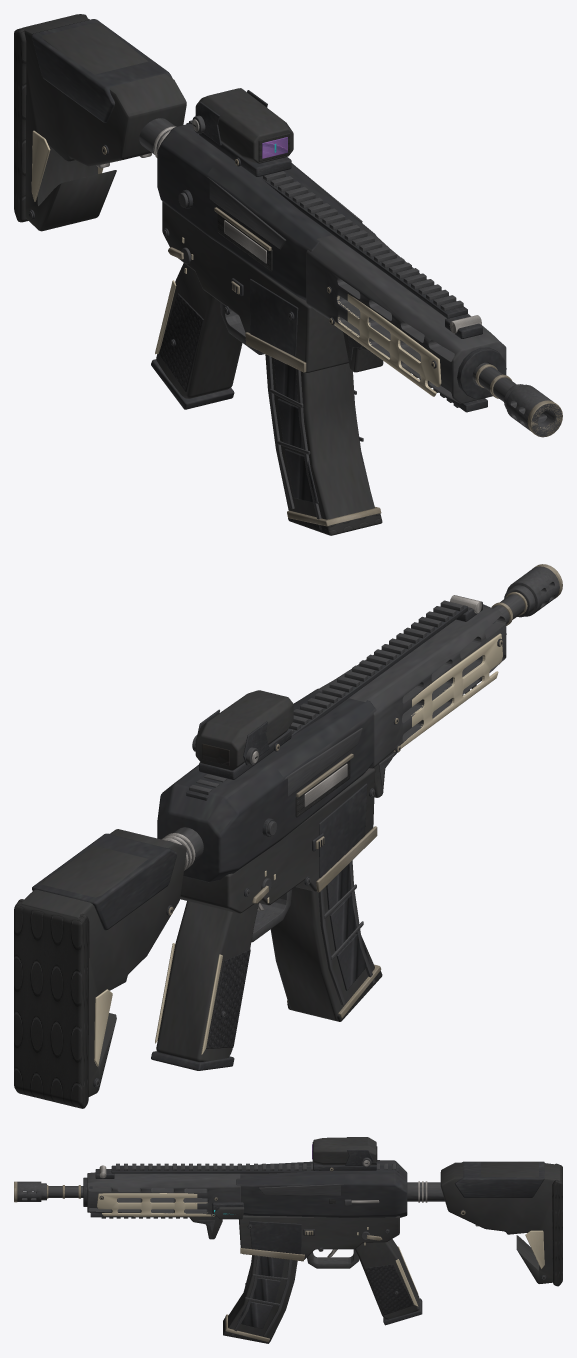
Rendered from SM_TunaWeapon_AR_Premium.fbx.
3 renders of one model, top to bottom at view 1: azimuth 30°, elevation 25°; view 2: azimuth 150°, elevation 25°; view 3: azimuth 270°, elevation 25°, orthographic. The views are drawn at different scales.
Parts seen in each view (by area): view 1: SM_TunaWeapon_AR_Premium; view 2: SM_TunaWeapon_AR_Premium; view 3: SM_TunaWeapon_AR_Premium.
Boxes of the visible parts, <box> form: SM_TunaWeapon_AR_Premium: <box>14,14,562,535</box>; SM_TunaWeapon_AR_Premium: <box>14,564,562,1108</box>; SM_TunaWeapon_AR_Premium: <box>14,1137,562,1343</box>.
Size of what is drawn, in the model's own units: 7 by 66 by 25.97.
